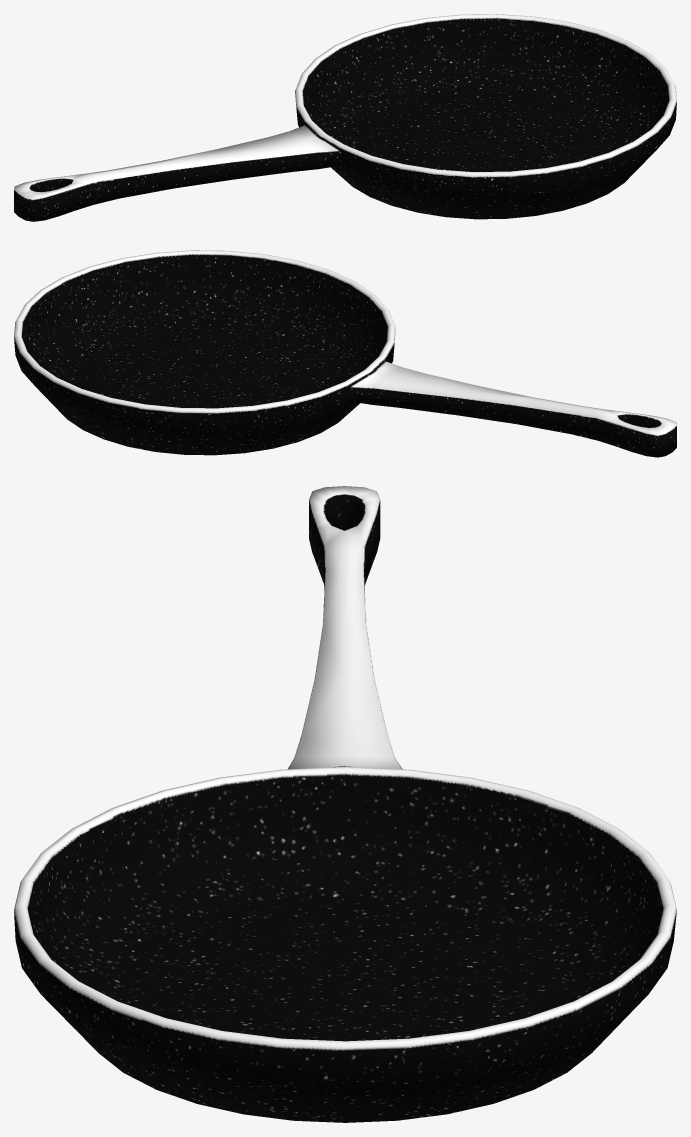
The model's file is stove.glb.
The picture shows the model from 3 angles, top to bottom: view 1: azimuth 30°, elevation 25°; view 2: azimuth 150°, elevation 25°; view 3: azimuth 270°, elevation 25°; orthographic projection. The views are drawn at different scales.
Visible parts, largest first — view 1: stove; view 2: stove; view 3: stove.
Boxes of the visible parts, x1,y1,x2,y2 form: stove: (14,14,676,221); stove: (14,250,676,457); stove: (14,486,676,1122).
Size of the model in its own units: 1.51 by 0.1837 by 0.792.
Materials: 1 (1 with a texture image).
